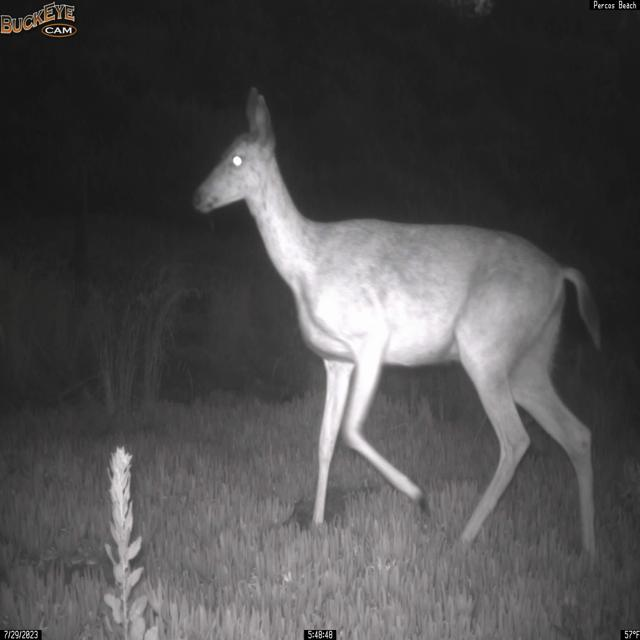deer: (191, 84, 603, 565)
